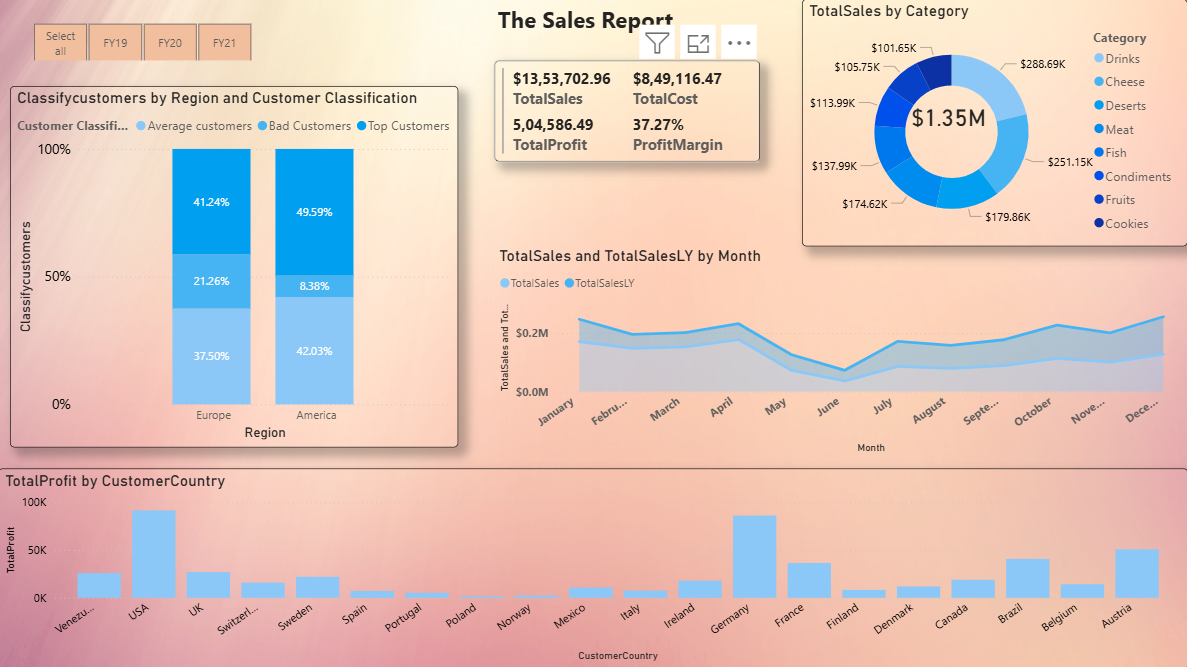

The dashboard page shown, as its layout file describes it:
{"tool":"powerbi","page":{"name":"Sales Report","canvas":[1280,720],"ordinal":1},"visuals":[{"type":"donutChart","fields":{"Category":["Ordertbl.Category"],"Y":["Measurestbl.TotalSales"]},"box":[865,4.1,415.1,256.1],"z":0,"group":"g1"},{"type":"textbox","box":[532.8,0,214.3,43.8],"z":0},{"type":"slicer","fields":{"Values":["Datestbl.Fiscal Year"]},"box":[0,1.6,194.1,144.7],"z":1000},{"type":"multiRowCard","fields":{"Values":["Measurestbl.TotalSales","Measurestbl.TotalCost","Measurestbl.TotalProfit","Measurestbl.ProfitMargin"]},"box":[194.1,15.9,278.4,117.7],"z":2000},{"type":"card","fields":{"Values":["Measurestbl.TotalSales"]},"box":[971.7,118.3,101.7,56.7],"z":3000,"group":"g1"},{"type":"hundredPercentStackedColumnChart","fields":{"Category":["Ordertbl.Region"],"Y":["Measurestbl.Classifycustomers"],"Series":["Customer Classification tbl.Customer Classification"]},"box":[12.7,140,472.4,342],"z":3000},{"type":"lineClusteredColumnComboChart","fields":{"Category":["Ordertbl.CustomerCountry"],"Y":["Measurestbl.TotalProfit"]},"box":[0,505,1280,215],"z":4000},{"type":"stackedAreaChart","fields":{"Category":["Datestbl.Date.Variation.Date Hierarchy.Month"],"Y":["Measurestbl.TotalSales","Measurestbl.TotalSalesLY"]},"box":[499.5,275.2,781,217.9],"z":5000},{"type":"group","id":"g1","title":"Group 1","box":[865,4.1,415.1,256.1],"z":6000},{"type":"clusteredColumnChart","fields":{"Y":["Measurestbl.TotalSales"],"Category":["Datestbl.Fiscal Year"]},"box":[499.5,44.5,353.1,198.8],"z":7000}]}

Visuals, with their boxes in screenshot pixels (x1, y1, x2, y2), scaled from the page's 1280x720 canvas onto the 1187x667 screenshot:
donutChart - Ordertbl.Category x Measurestbl.TotalSales: x1=802 y1=4 x2=1186 y2=241
textbox: x1=494 y1=0 x2=693 y2=41
slicer - Datestbl.Fiscal Year: x1=0 y1=1 x2=180 y2=136
multiRowCard - Measurestbl.TotalSales x Measurestbl.TotalCost: x1=180 y1=15 x2=438 y2=124
card - Measurestbl.TotalSales: x1=901 y1=110 x2=995 y2=162
hundredPercentStackedColumnChart - Ordertbl.Region x Measurestbl.Classifycustomers: x1=12 y1=130 x2=450 y2=447
lineClusteredColumnComboChart - Ordertbl.CustomerCountry x Measurestbl.TotalProfit: x1=0 y1=468 x2=1186 y2=666
stackedAreaChart - Datestbl.Date.Variation.Date Hierarchy.Month x Measurestbl.TotalSales: x1=463 y1=255 x2=1186 y2=457
"Group 1" group: x1=802 y1=4 x2=1186 y2=241
clusteredColumnChart - Measurestbl.TotalSales x Datestbl.Fiscal Year: x1=463 y1=41 x2=791 y2=225
